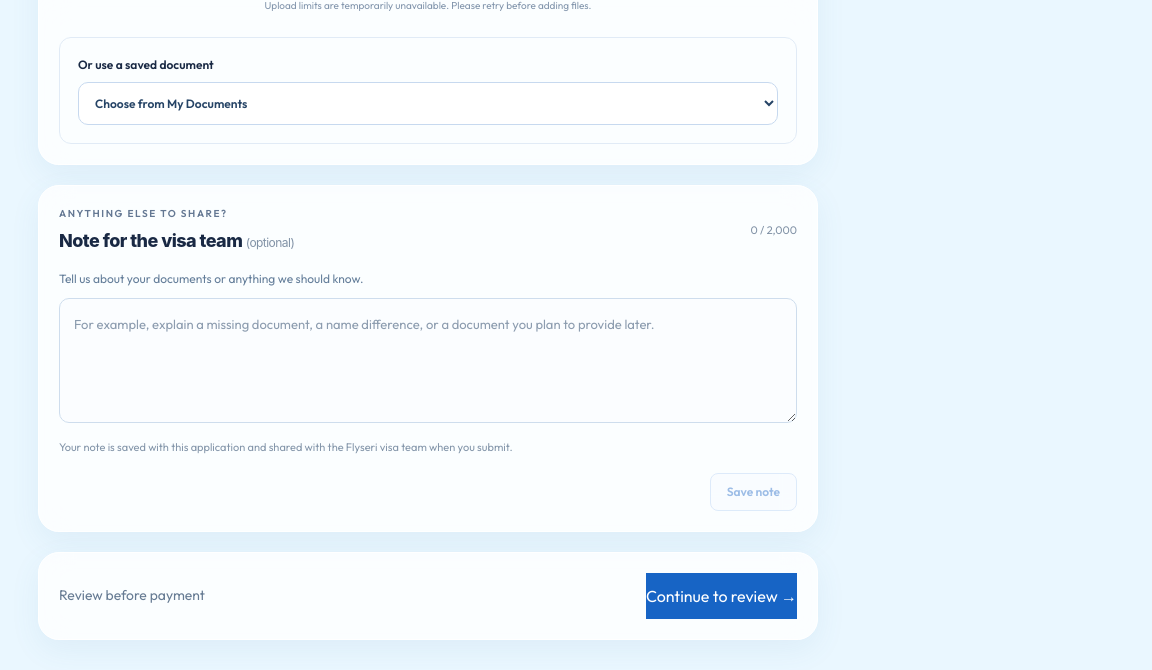
Test: visa document categories › disables uploads without a policy but retains the saved application
(page scrolled)
Replace the text in the text box labelled "Tell us about your documents or anything we should know." with "Keep this note" at coordinates (428, 361), box [59, 298, 797, 423]
(page scrolled)
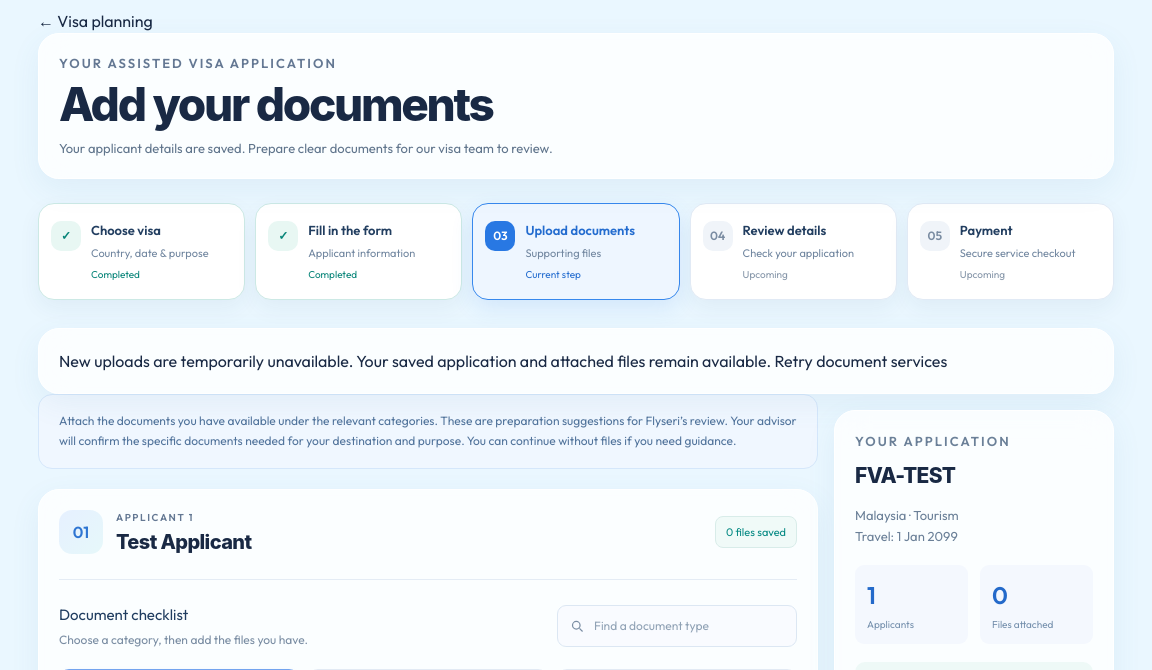
Expected: the button "Retry document services" is disabled, [774, 349, 947, 373]
